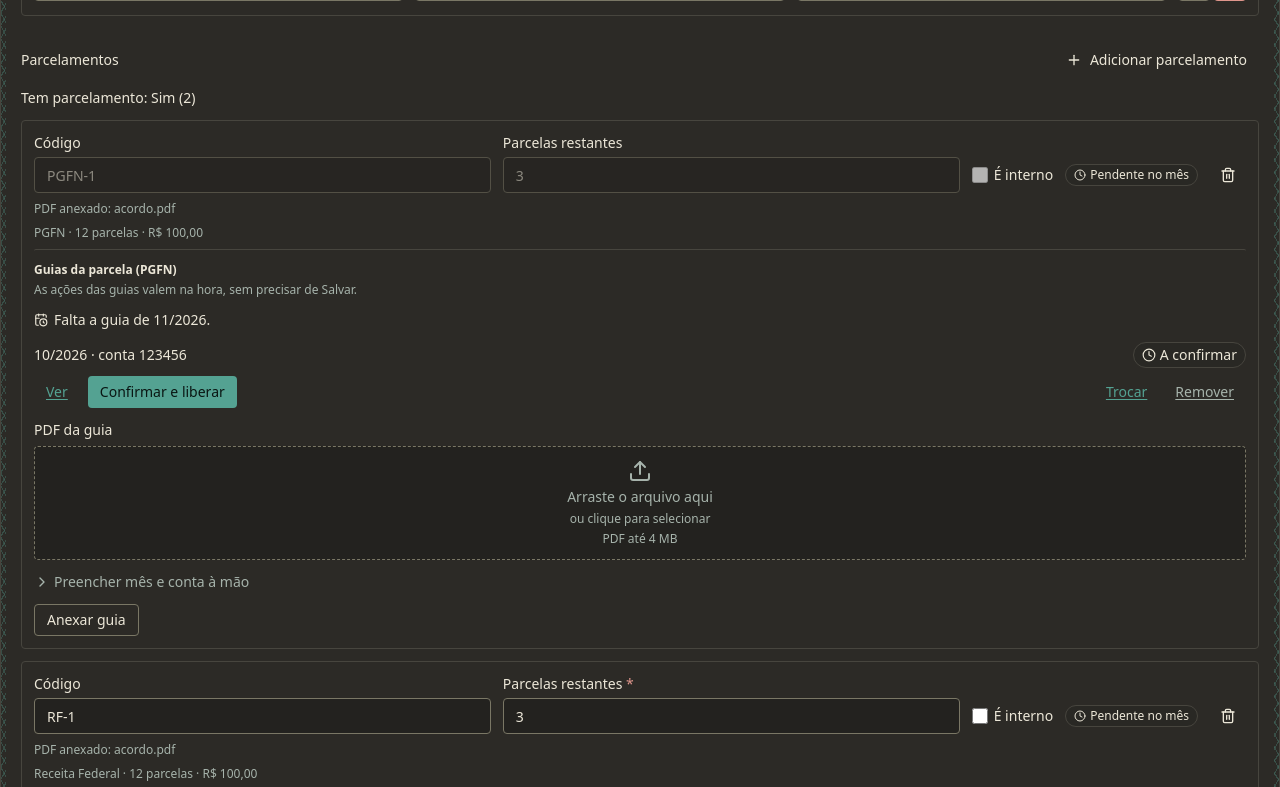
Test case: guia da parcela PGFN na linha do Parcelamento › abrir a remoção fecha a conferência de liberar: só uma pergunta de risco por vez
(page scrolled)
What coordinates should you click on to do the following:
click the button with aria-label "Confirmar e liberar guia de 10/2026 ao envio"
I would click on:
 (162, 392)
Its box is [88, 376, 237, 408].
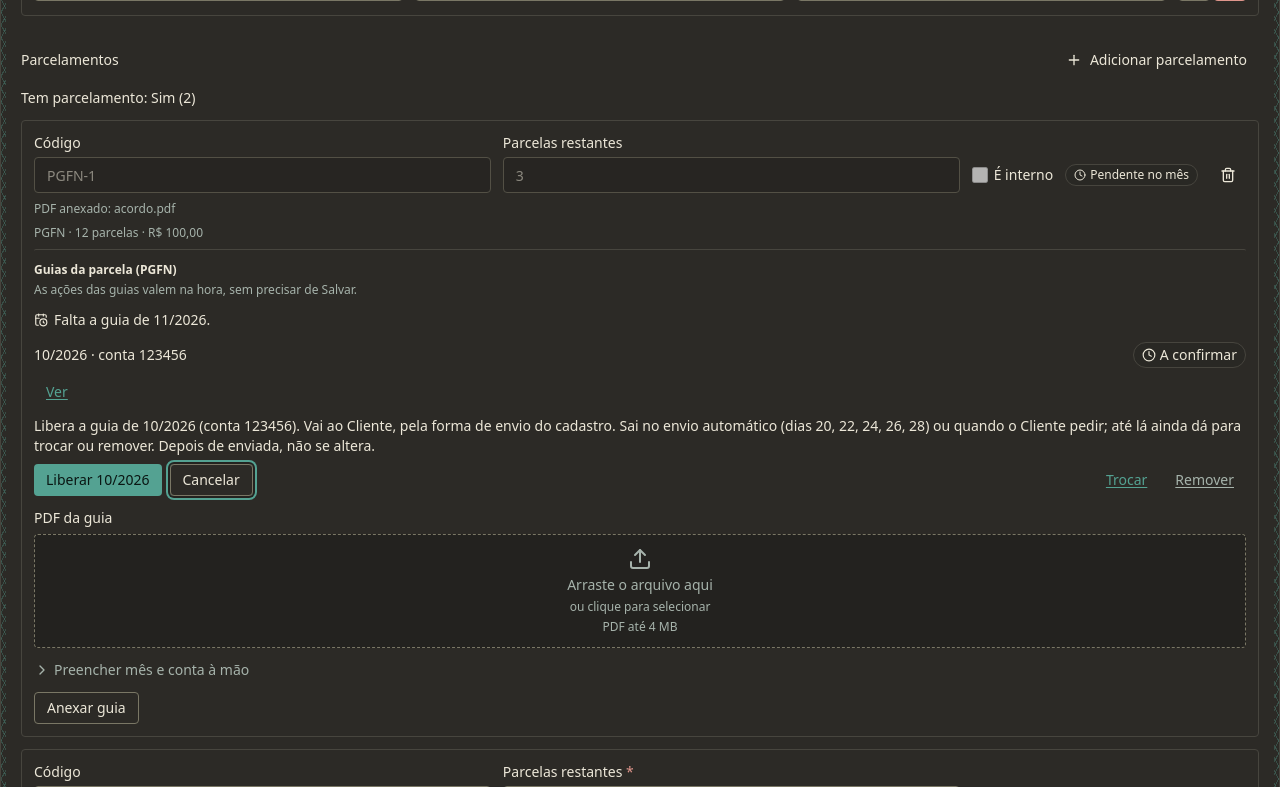
Check: the button with aria-label "Liberar 10/2026 ao envio" is shown, box [34, 464, 162, 496]
What coordinates should you click on to do the following:
click the button with aria-label "Remover guia de 10/2026"
I would click on:
 (1205, 480)
Its box is [1163, 464, 1246, 496].
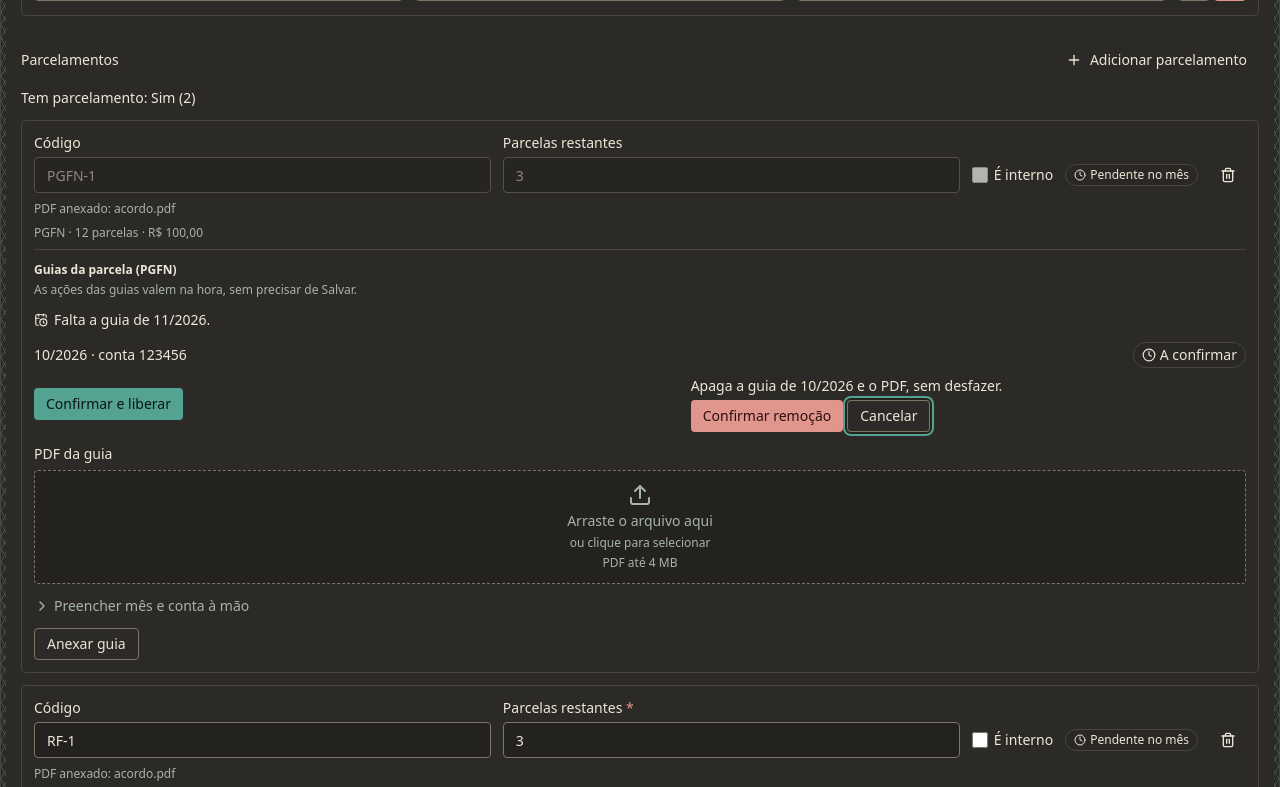
Check: the button with aria-label "Confirmar remoção da guia de 10/2026" is shown, box [691, 400, 843, 432]
Check: the button with aria-label "Confirmar e liberar guia de 10/2026 ao envio" is shown, box [34, 388, 183, 420]
